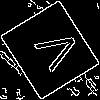V: (25, 25, 83, 78)
